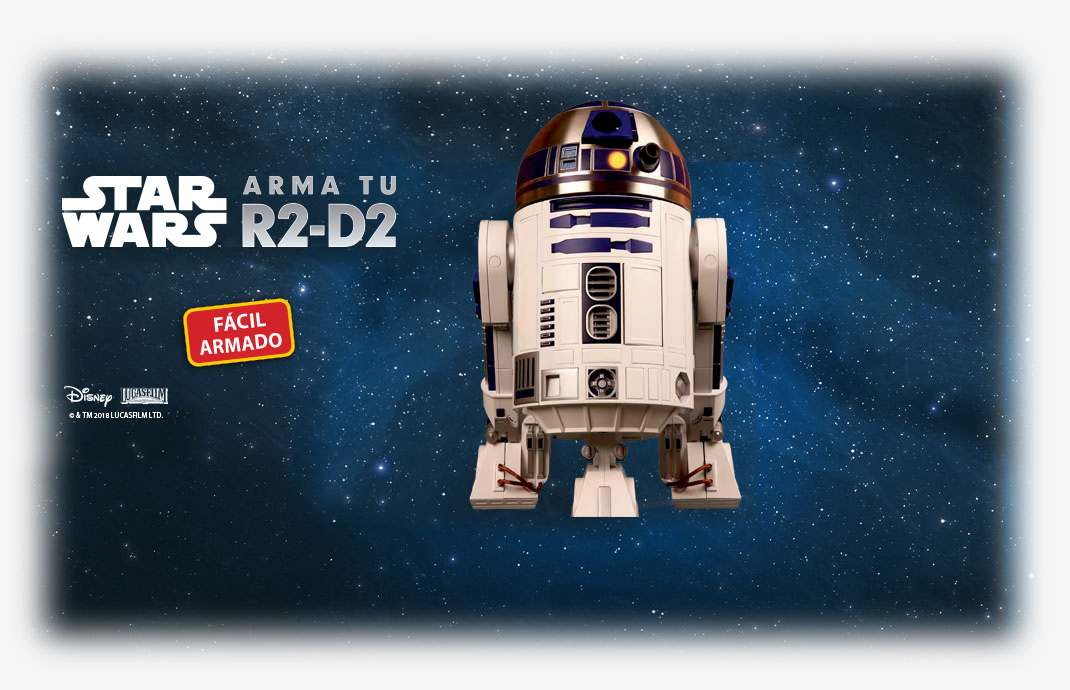r2d2: (473, 105, 742, 521)
